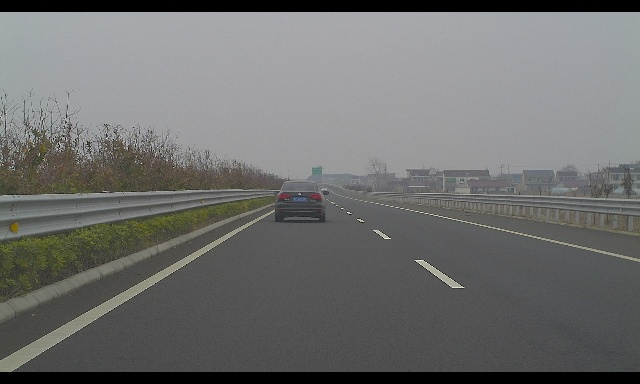car: (273, 181, 329, 222), (321, 187, 327, 192)
